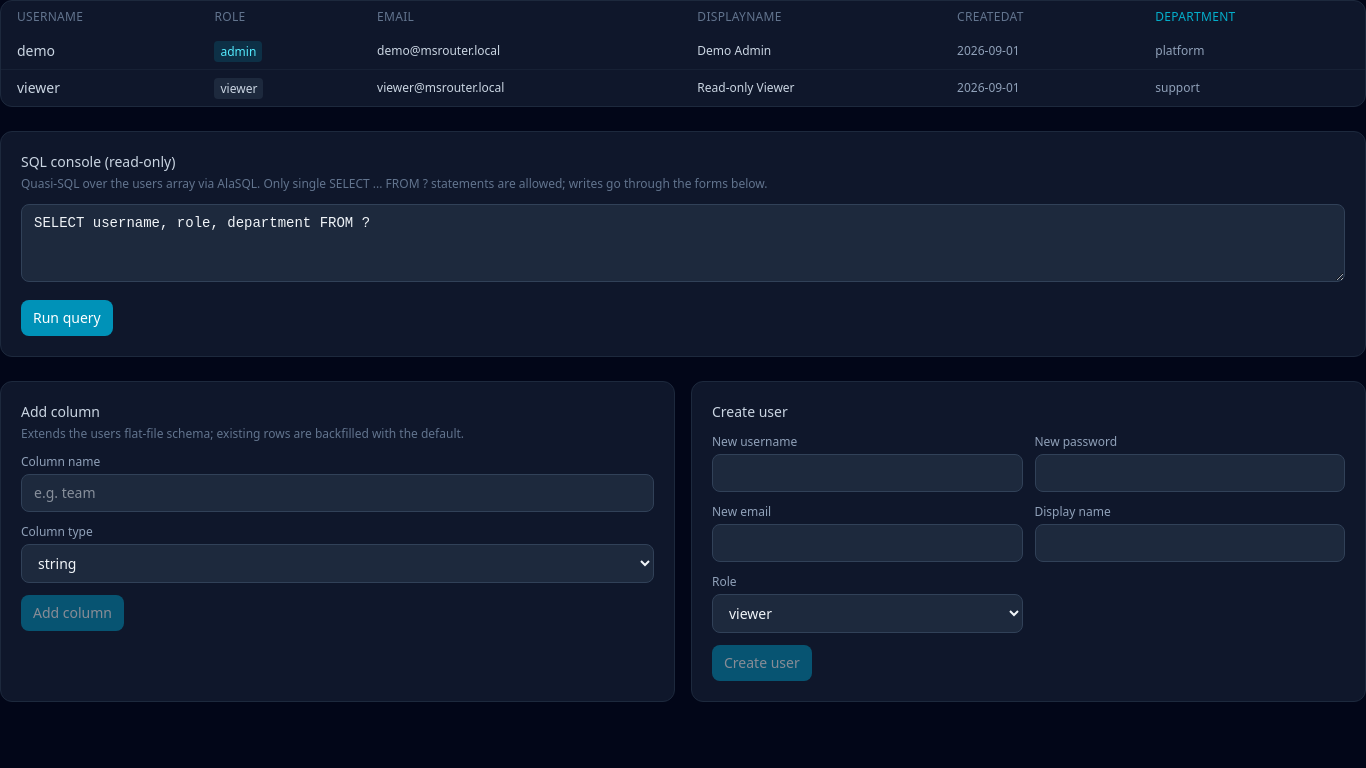
add column › shows a validation error for a rejected column name
Expected: the text "demo" is shown, [1,33,198,70]
In the field labelled "Column name": x=338, y=493 [21,474,654,512], type "username"
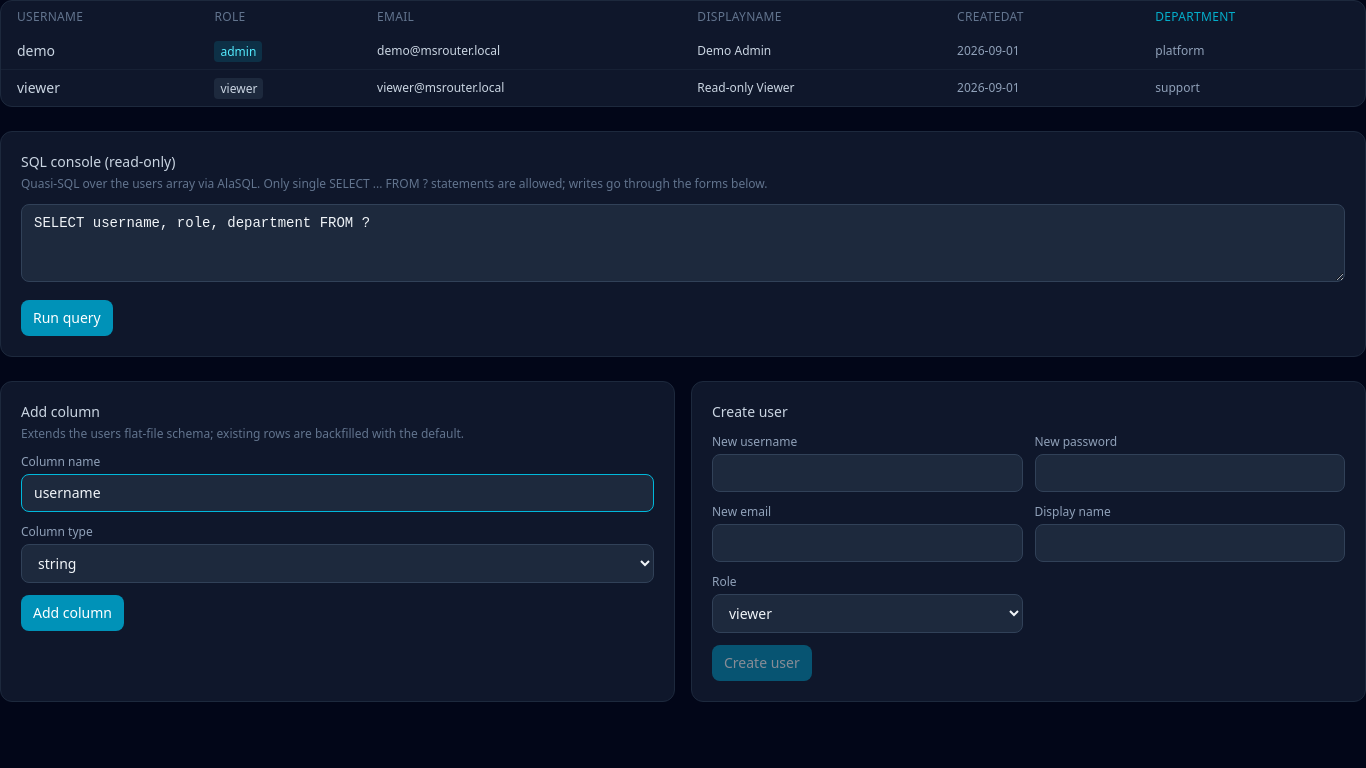
Click the button "Add column": x=72, y=613 [21,595,124,631]
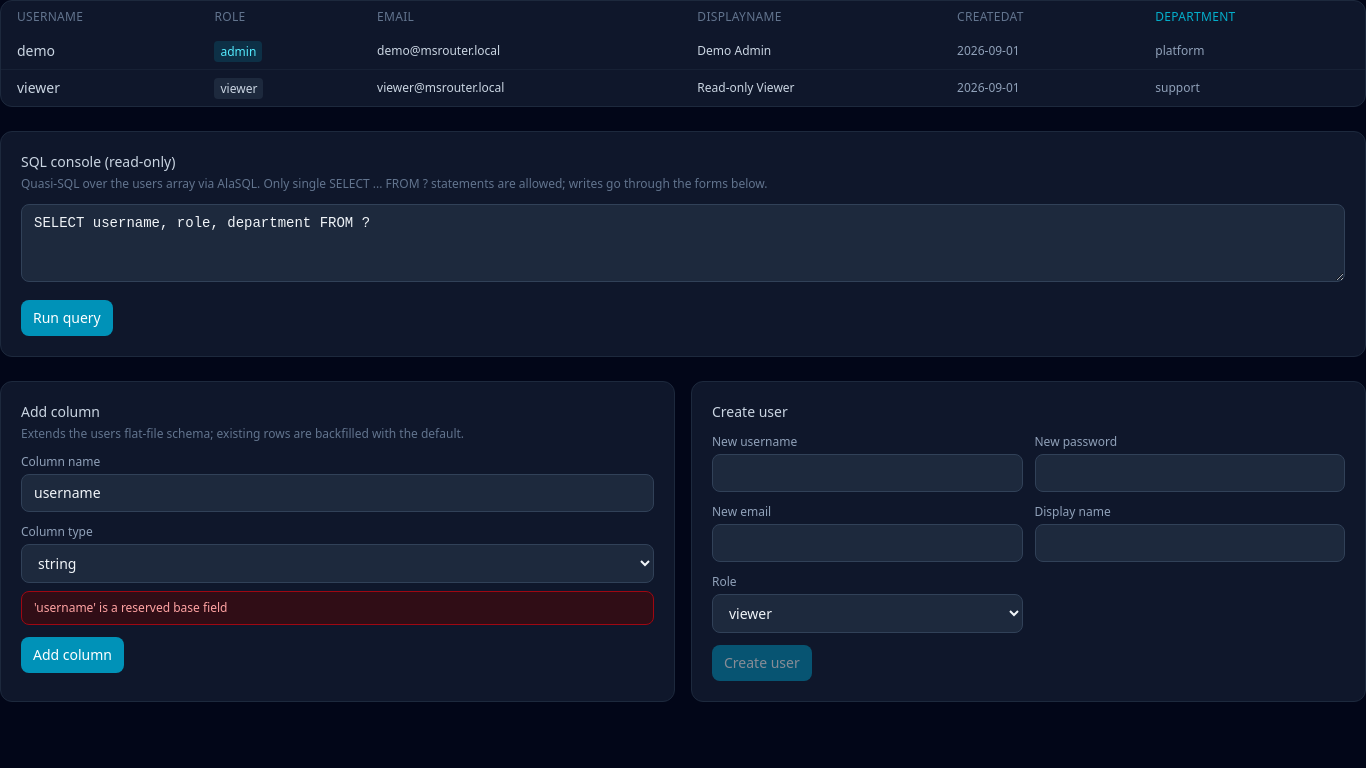
Expected: the text "'username' is a reserved base field" is shown, [21,591,654,625]
